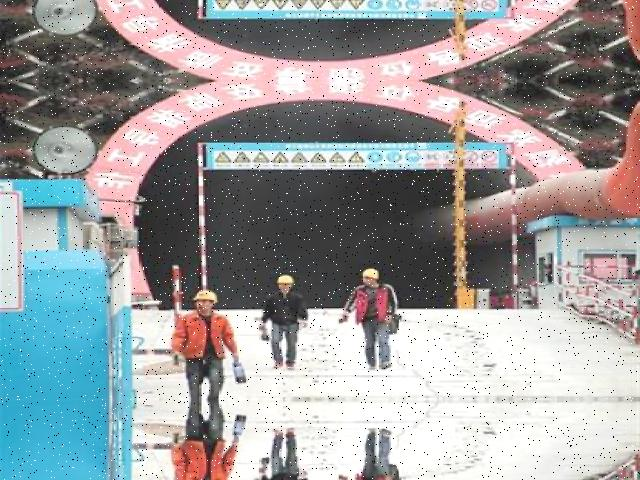Helmet: (194, 286, 222, 306), (361, 264, 386, 284), (276, 270, 300, 288)
